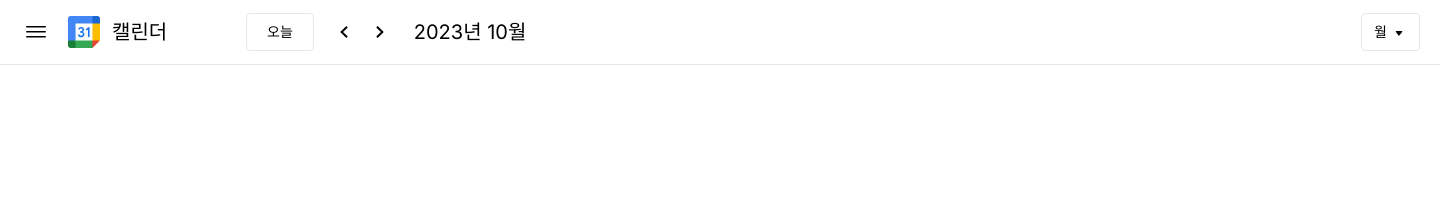
왼쪽 및 오른쪽 버튼 기능 › 주 단위로 선택 후 두 개의 달이 겹치는 주일 경우 "0000년 00월 - 00월 형식으로 보이게 한다.
The image size is (1440, 201).
// 달력 유닛을 주로 선택
Click the button named "calendar view unit button".
click(1391, 32)  # box [1361,13,1420,51]
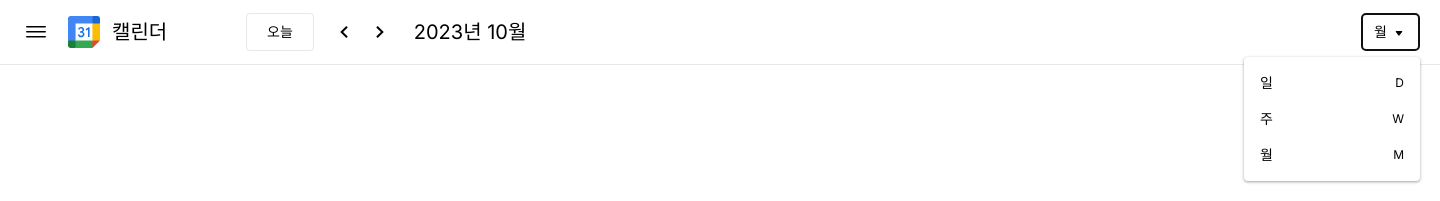
Click the button "주 W".
click(1332, 119)  # box [1244,101,1420,137]
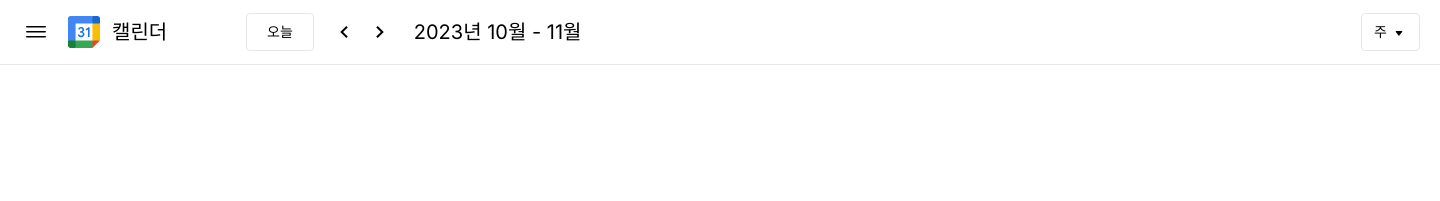
Check: the text named "selected date" reads "2023년 10월 - 11월", box [414,20,582,44]
